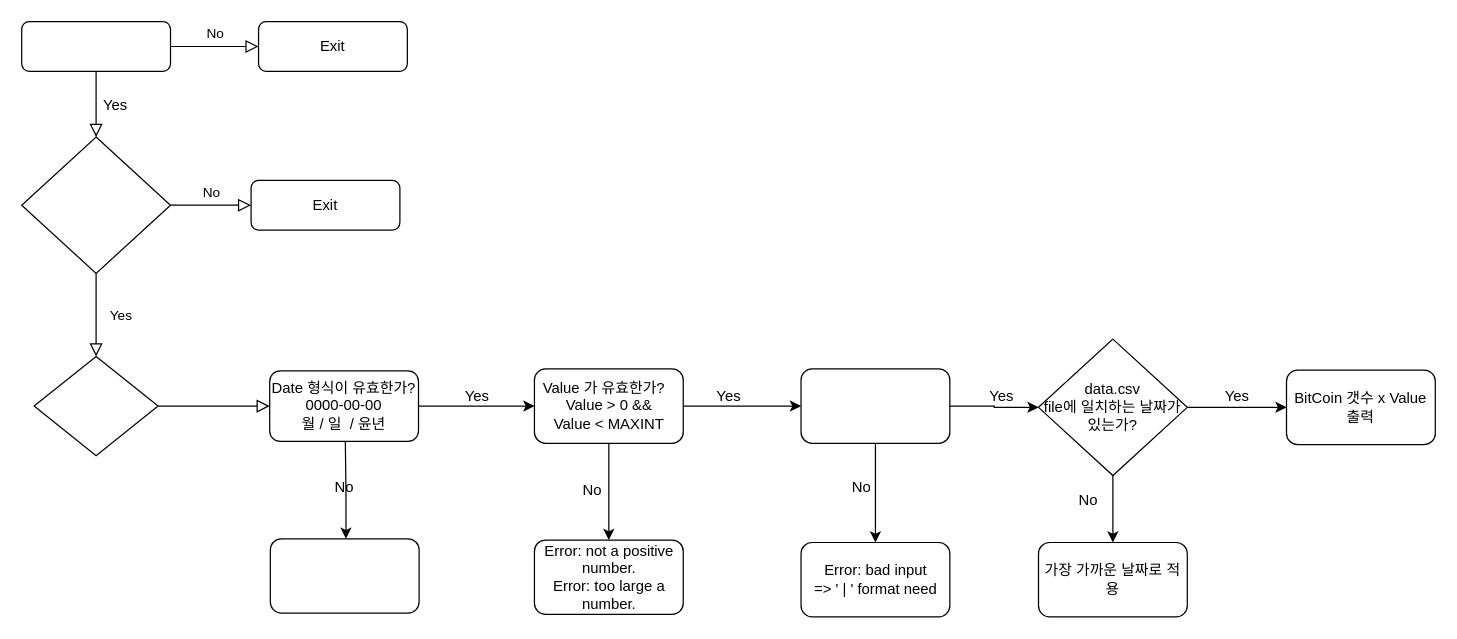
The diagram is 1457 pixels wide and 639 high, and some of its shapes have lost their labels. The centre of each missing label's shape, as x and y in pixels:
' | ' Format으로 이루어져 있는가?: the point at 875,405
Error: bad input => 2001-42-42: the point at 344,575
input.txt data.csv 파일이 열리는지?: the point at 95,204
Input.txt 유효성 체크: the point at 95,405
인자가 2개인지?: the point at 95,45
